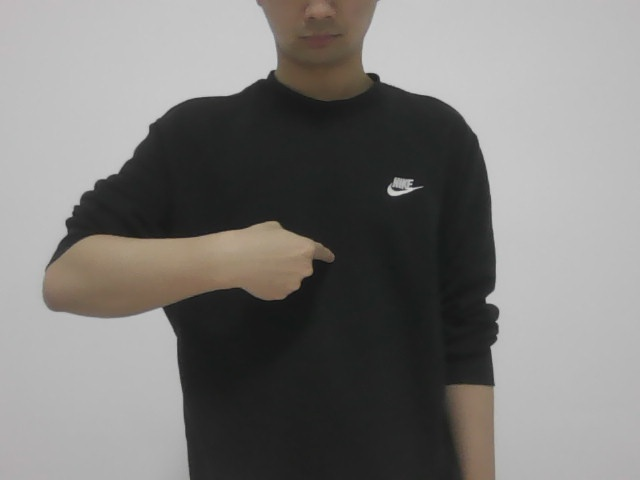I/me: (215, 223, 347, 306)
